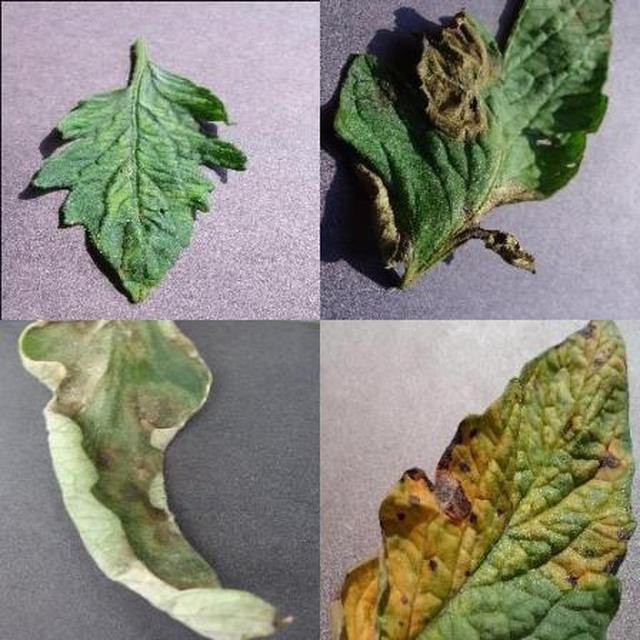Mosaic Virus Leaf: (200, 204, 640, 640)
